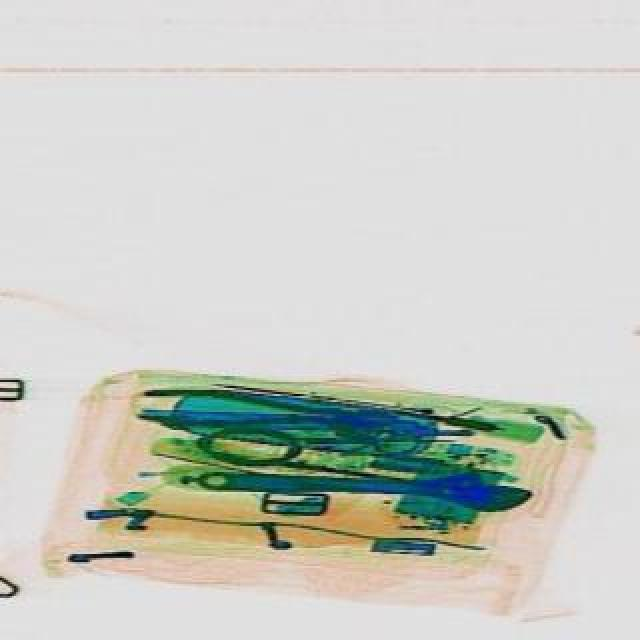scissors: (192, 458, 528, 510)
wrench: (134, 384, 396, 434)
